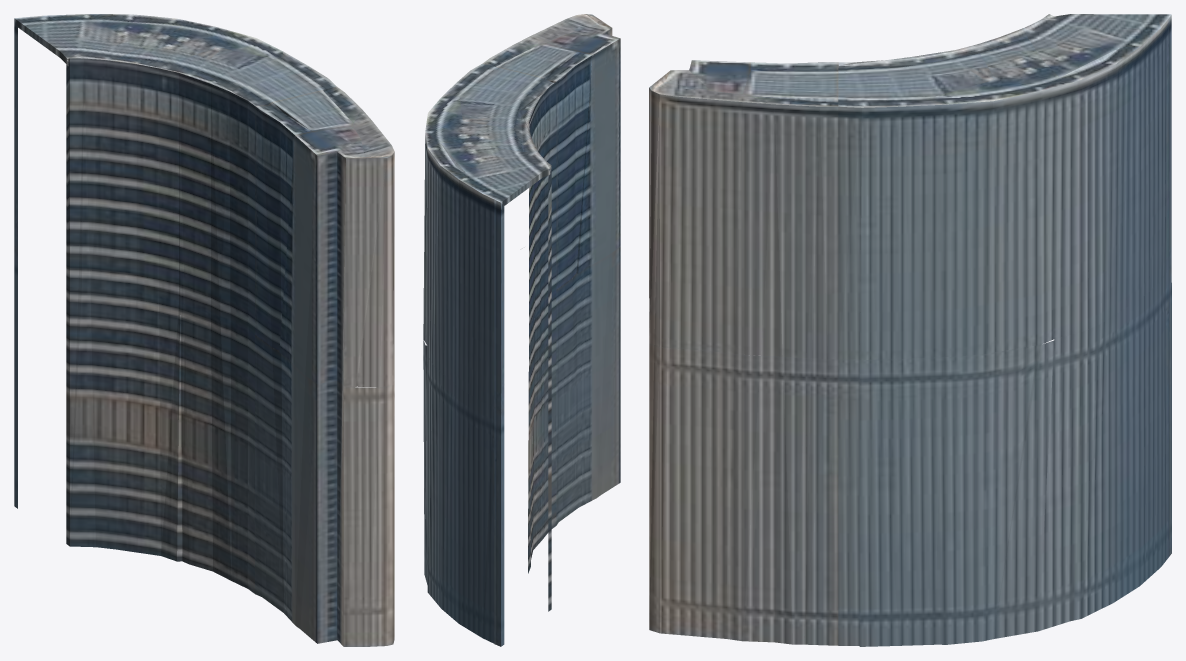
Rendered from chunk_-7_6.glb.
3 views of the same model, side by side, from view 1: azimuth 30°, elevation 25°; view 2: azimuth 150°, elevation 25°; view 3: azimuth 270°, elevation 25° (orthographic). The views are drawn at different scales.
Parts seen in each view (by area): view 1: hero-chunk; view 2: hero-chunk; view 3: hero-chunk.
Part boxes in pixels (x1,y1,x2,y2): hero-chunk: (14,14,394,646); hero-chunk: (423,14,620,646); hero-chunk: (649,14,1171,646).
Size of the model in its own units: 25.86 by 68.7 by 60.29.
Materials: 2 (2 with a texture image).
